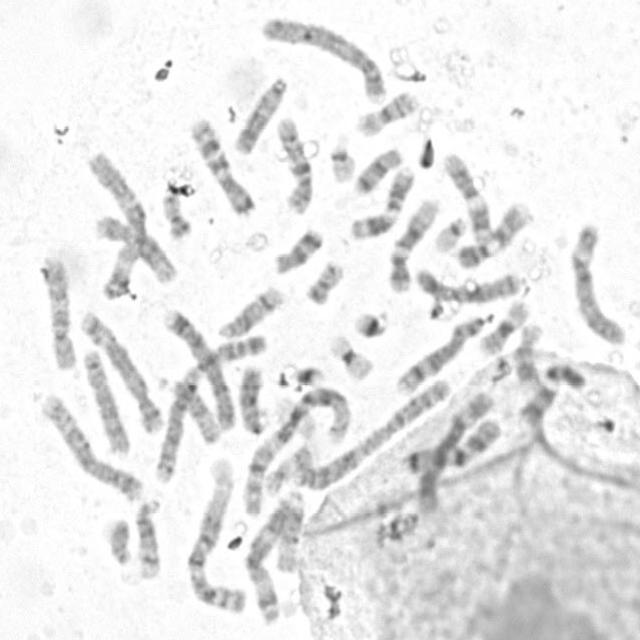A1: (242, 386, 354, 518), (183, 455, 250, 617)
A2: (294, 378, 454, 494), (150, 332, 270, 484)
A3: (86, 151, 148, 303), (242, 498, 292, 629)
B4: (261, 14, 388, 107), (162, 304, 238, 436)
B5: (41, 394, 145, 502), (79, 309, 166, 436)
C10: (41, 254, 78, 371), (274, 115, 314, 215)
C11: (439, 151, 494, 245), (350, 165, 416, 241)
C12: (94, 213, 179, 287), (386, 196, 440, 295)
C6: (414, 390, 494, 518), (569, 223, 629, 347)
C7: (190, 115, 258, 219), (401, 417, 504, 478)
C8: (394, 315, 484, 397), (82, 347, 132, 456)
C9: (455, 198, 535, 269), (514, 361, 588, 431)
D13: (232, 76, 290, 156), (237, 364, 270, 436)
D14: (216, 284, 286, 340), (134, 497, 162, 580)
D15: (154, 374, 223, 448), (274, 490, 308, 574)
E16: (352, 91, 422, 139), (477, 298, 530, 358)
E17: (262, 442, 314, 499), (512, 320, 545, 390)
E18: (352, 145, 404, 197), (272, 228, 324, 274)
F19: (328, 334, 376, 384), (274, 395, 318, 441)
F20: (304, 260, 346, 308), (162, 193, 192, 240)
G21: (276, 365, 324, 392), (354, 309, 391, 340)
G22: (328, 136, 357, 187), (434, 214, 466, 255)
X: (412, 268, 522, 304)
Y: (106, 518, 134, 566)
